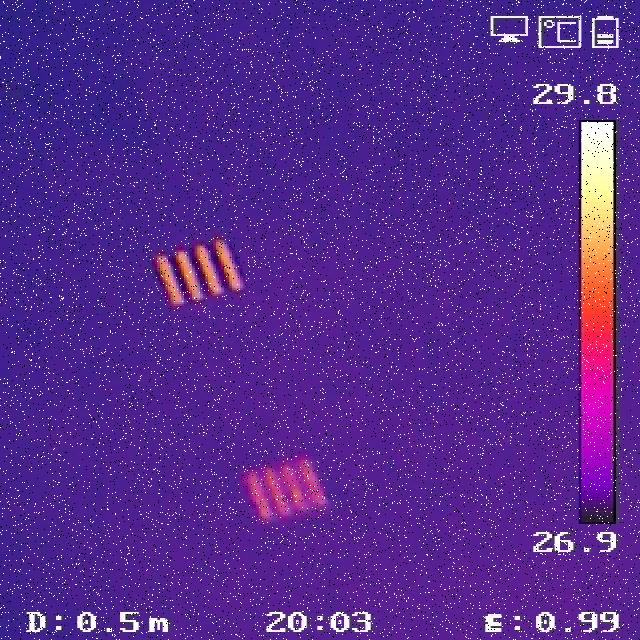Distinguishable 4-bar target: (152, 239, 245, 304)
threshold 4-bar target: (244, 456, 331, 519)
